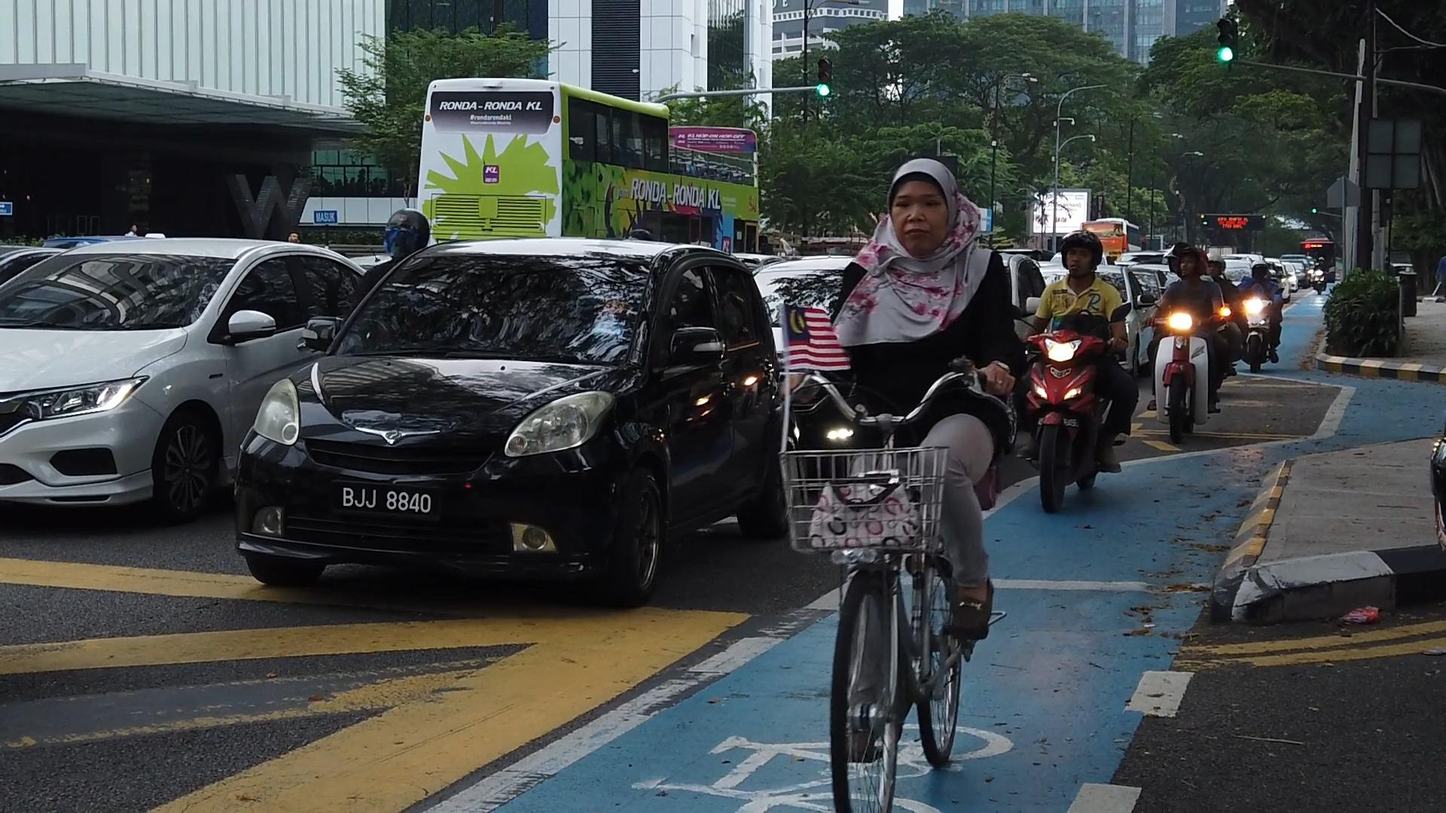bicyclist: (773, 158, 1033, 813)
driver: (1012, 229, 1140, 514), (1139, 241, 1234, 446), (1234, 260, 1285, 374)
helmet: (385, 209, 430, 259), (1060, 230, 1103, 279), (1172, 242, 1208, 278), (1205, 252, 1224, 279), (1251, 260, 1269, 280)
no-helmet: (887, 157, 957, 256)
